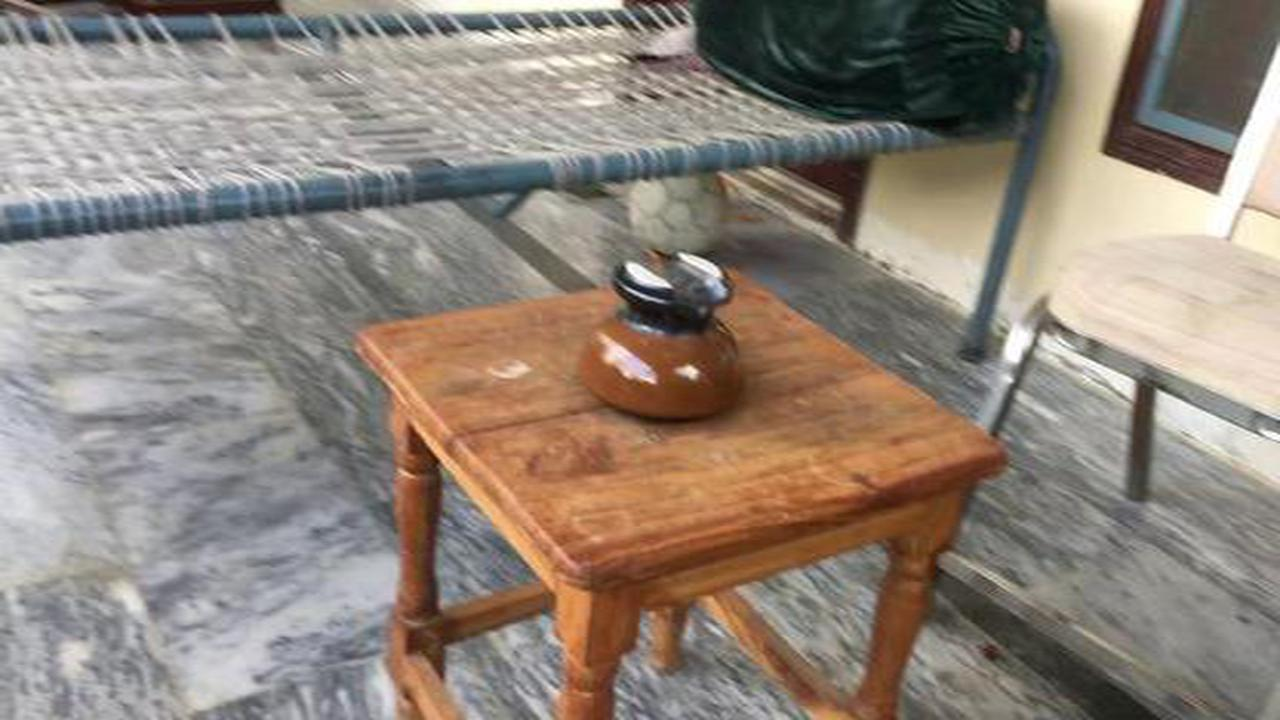insulator_pin: (554, 234, 767, 435)
